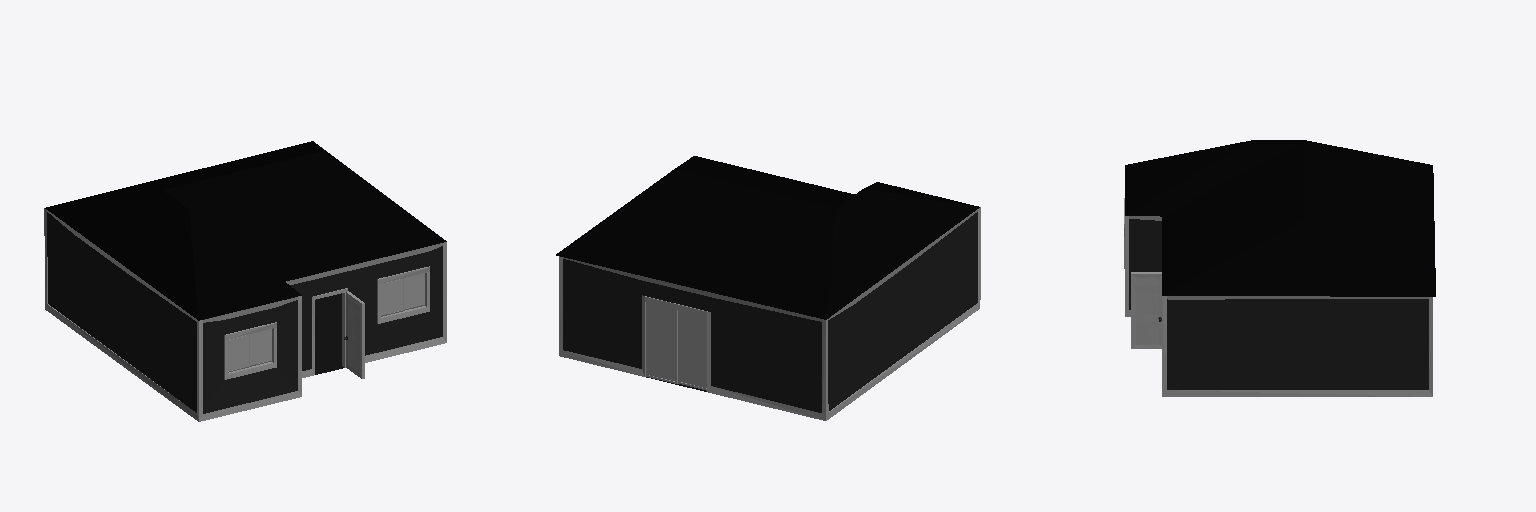
File: house.obj
3 renders of one model, left to right at view 1: azimuth 30°, elevation 25°; view 2: azimuth 150°, elevation 25°; view 3: azimuth 270°, elevation 25°, orthographic.
Parts seen in each view (by area): view 1: Circle; view 2: Circle; view 3: Circle.
Boxes of the visible parts, <box> form: Circle: <box>44,141,446,421</box>; Circle: <box>556,156,980,420</box>; Circle: <box>1124,140,1435,396</box>.
Bounding box in the file's own units: 1.65 × 0.89 × 1.65.